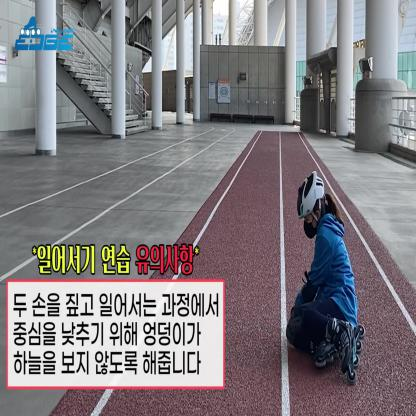Fall_Down: (284, 179, 358, 374)
